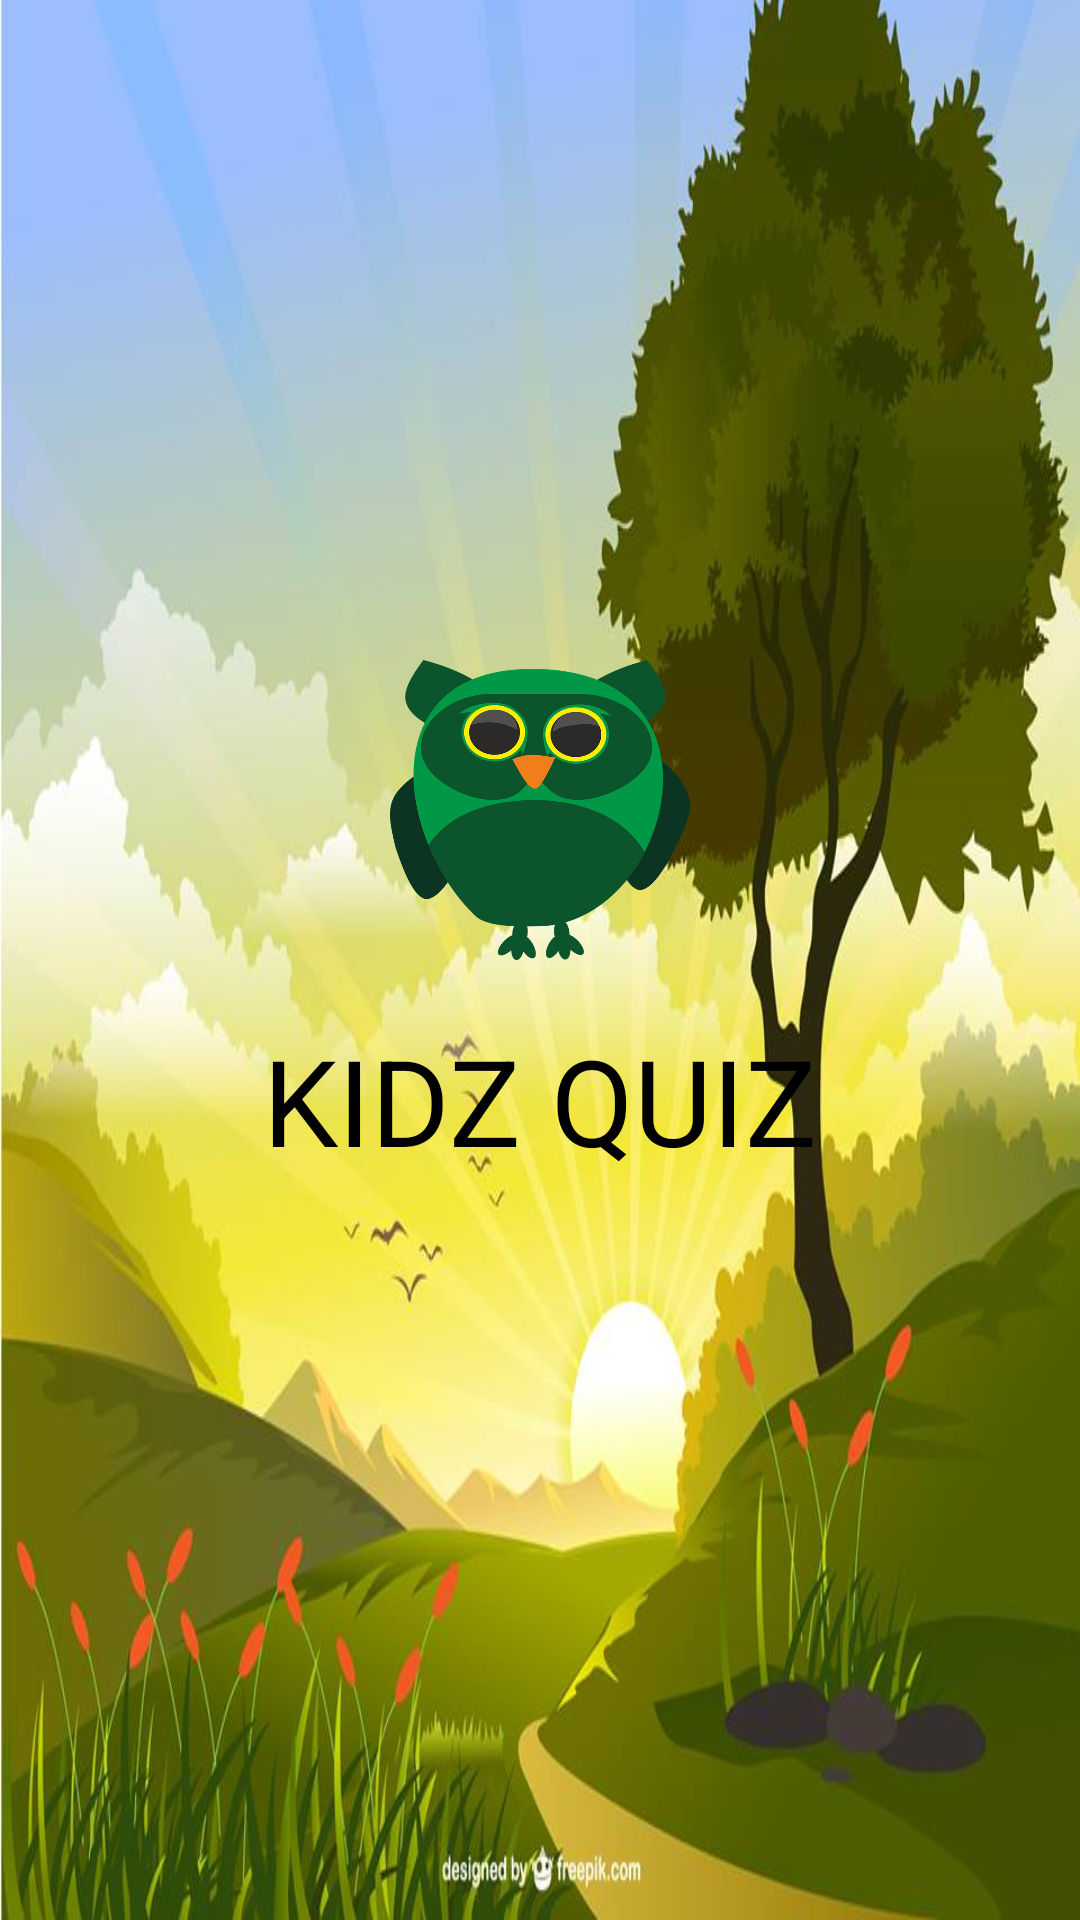

Point at icon controls on the screen. Image size 1080px x 1920px, points as [x,y].
owl: [540,810]
